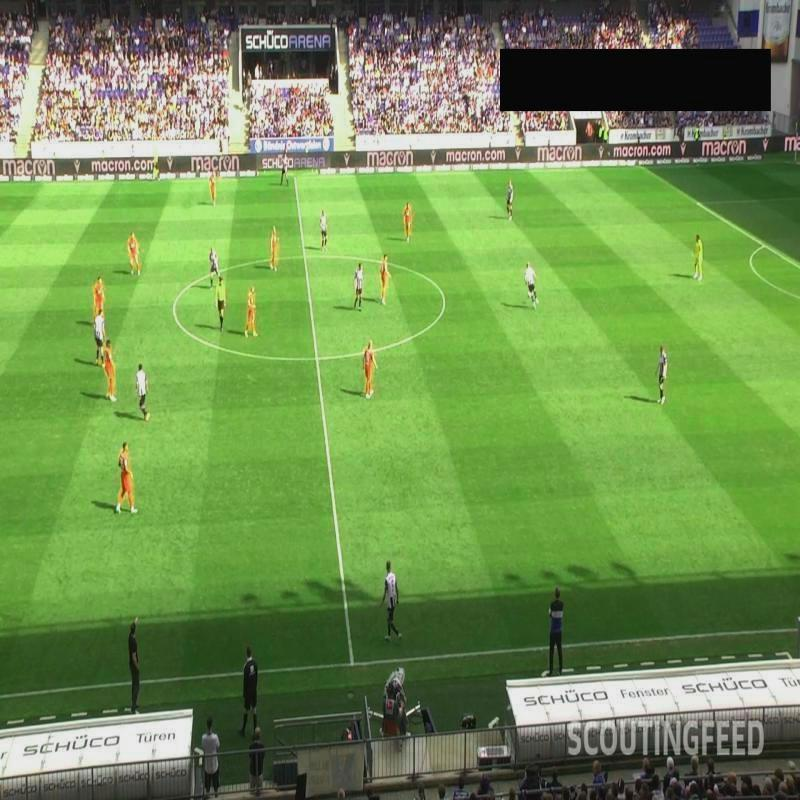1: (789, 158, 800, 168)
10: (755, 236, 772, 255)
13: (288, 170, 302, 184)
14: (297, 249, 311, 262)
15: (308, 350, 322, 364)
16: (344, 653, 363, 674)
9: (696, 196, 710, 210)
c: (434, 286, 457, 302), (168, 301, 182, 315)
